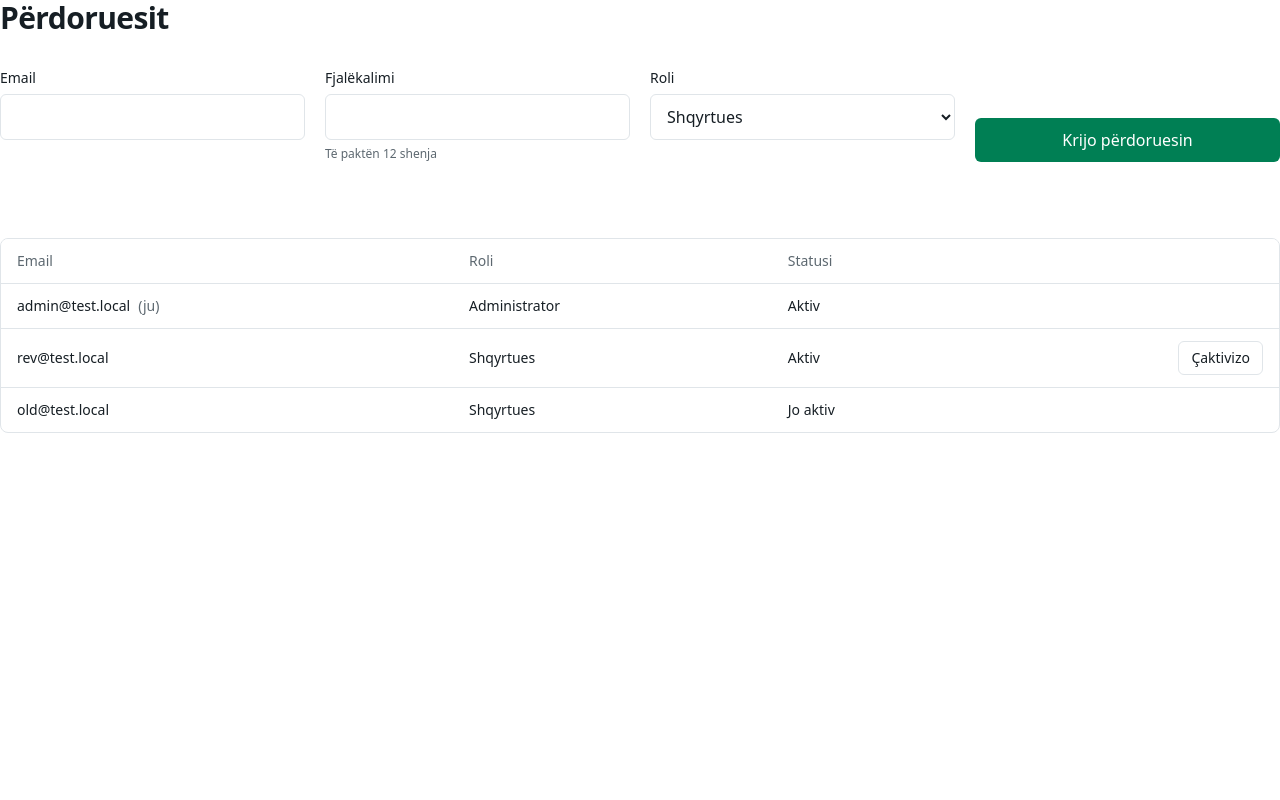
Scenario: UsersPage › deactivates a user
This screenshot has width=1280, height=800.
Click the button with aria-label "Çaktivizo rev@test.local" at (1221, 358), box x1=1178 y1=341 x2=1263 y2=375
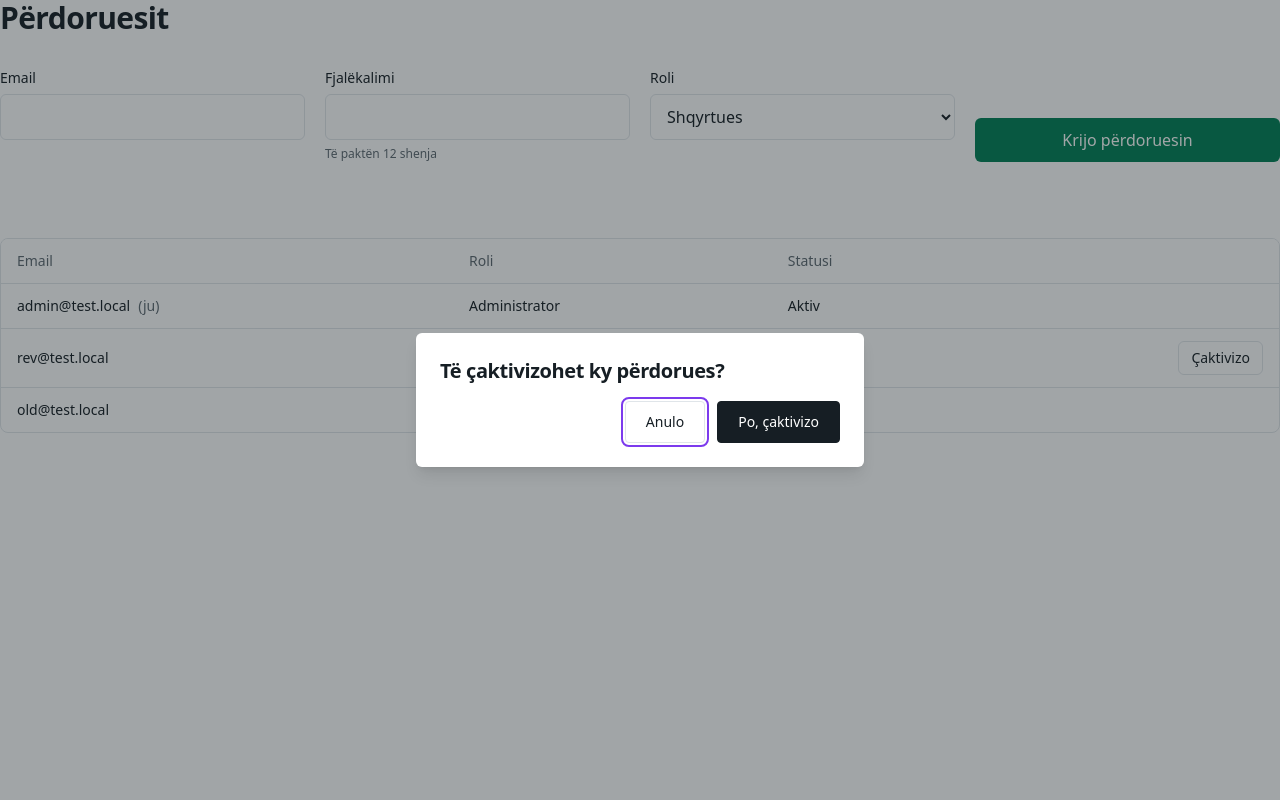
Click the button "Po, çaktivizo" at (779, 422), box x1=717 y1=401 x2=840 y2=443
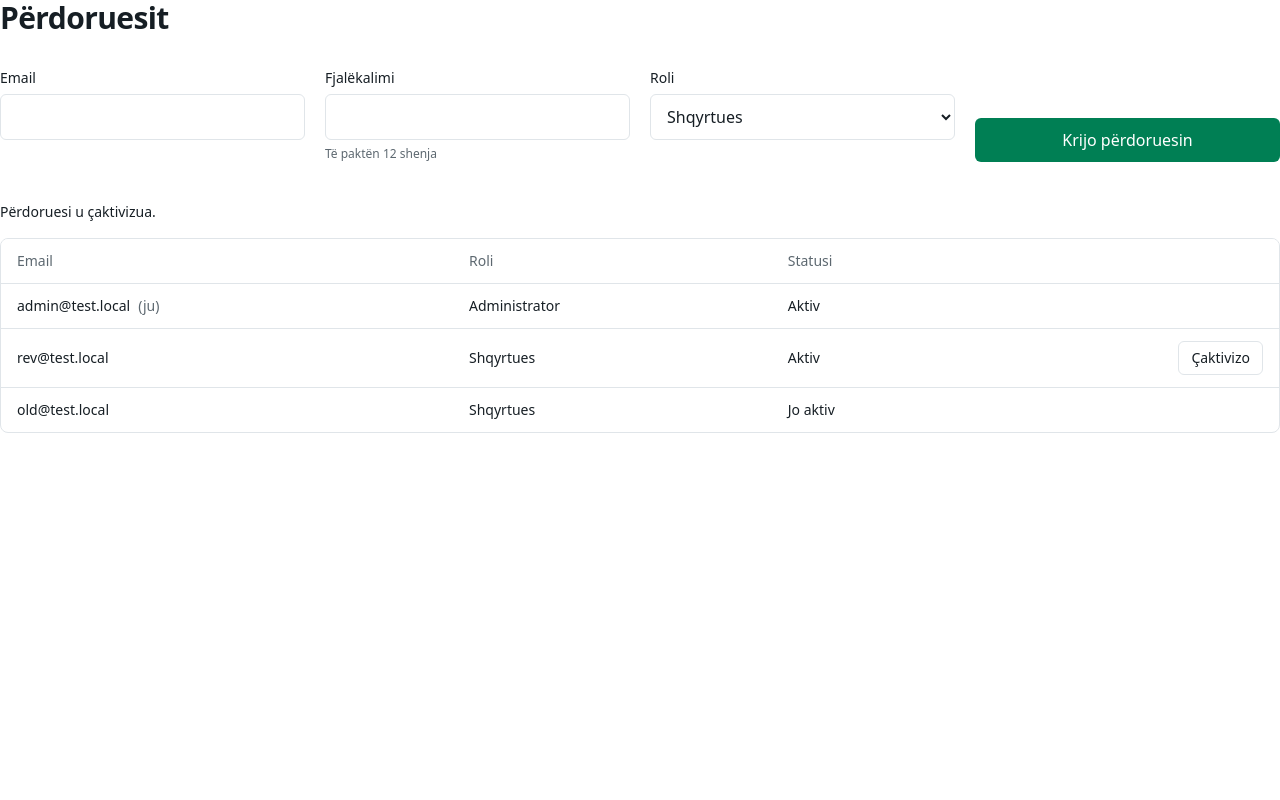
Check: the text "Përdoruesi u çaktivizua." is shown, box x1=0 y1=202 x2=156 y2=221
